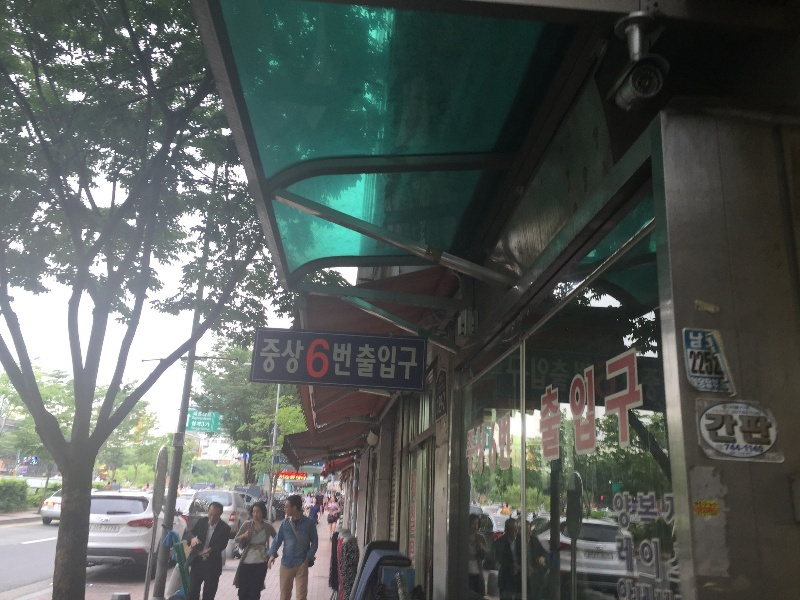text: (545, 349, 560, 460), (561, 349, 576, 460), (577, 349, 592, 460), (593, 349, 608, 460), (609, 349, 624, 460), (625, 349, 640, 460), (481, 413, 496, 478), (497, 413, 511, 478), (467, 413, 480, 478), (513, 353, 528, 404), (529, 353, 544, 404), (545, 353, 560, 404), (561, 353, 576, 404), (577, 353, 592, 404), (593, 353, 608, 404), (273, 335, 288, 382), (289, 335, 304, 382), (305, 335, 320, 382), (321, 335, 336, 382), (337, 335, 352, 382), (353, 335, 368, 382), (369, 335, 384, 382), (385, 335, 400, 382), (401, 335, 416, 382), (625, 536, 640, 582), (641, 536, 656, 582), (410, 471, 416, 568), (625, 492, 640, 530), (641, 492, 656, 530), (641, 366, 656, 403), (539, 349, 544, 460), (705, 412, 720, 446), (721, 412, 736, 446), (737, 412, 752, 446), (753, 412, 768, 446), (262, 335, 272, 382), (612, 492, 624, 530), (615, 536, 624, 582), (609, 353, 617, 404), (689, 351, 704, 376), (705, 351, 720, 376), (625, 575, 640, 599), (641, 575, 656, 599), (657, 575, 672, 599), (436, 390, 448, 417), (673, 538, 680, 582), (689, 332, 704, 350), (507, 353, 512, 404), (641, 349, 643, 460), (705, 501, 719, 516), (690, 376, 704, 390), (705, 376, 719, 390), (673, 575, 681, 599), (657, 366, 662, 403), (657, 536, 661, 582), (665, 497, 672, 523), (668, 538, 672, 582), (617, 575, 624, 599), (737, 443, 752, 454), (593, 550, 608, 561), (711, 337, 720, 355), (769, 452, 783, 463), (437, 380, 448, 394), (694, 501, 704, 516), (723, 443, 736, 454), (417, 335, 420, 382), (769, 412, 773, 446), (438, 373, 448, 386), (753, 443, 764, 454), (193, 420, 208, 428), (657, 492, 660, 530), (134, 420, 144, 431), (721, 409, 736, 416), (737, 409, 752, 416), (353, 480, 368, 487), (721, 378, 728, 392), (274, 472, 288, 479), (2, 464, 16, 471), (289, 475, 304, 481), (193, 411, 208, 417), (584, 550, 592, 561), (200, 447, 208, 458), (722, 404, 736, 410), (737, 404, 751, 410), (247, 452, 256, 461), (761, 452, 768, 463), (193, 416, 208, 421), (721, 351, 724, 376), (753, 409, 763, 416), (697, 399, 704, 408), (289, 472, 304, 476), (712, 409, 720, 416), (104, 525, 112, 532), (609, 550, 614, 561), (279, 475, 288, 481), (673, 497, 675, 523), (102, 519, 112, 524), (597, 547, 608, 551), (329, 484, 336, 490), (130, 530, 144, 533), (193, 426, 201, 431), (243, 458, 256, 461), (705, 399, 709, 408), (305, 460, 314, 464), (97, 525, 103, 531), (313, 462, 320, 467), (219, 415, 224, 422), (217, 427, 224, 432), (201, 427, 208, 432), (113, 525, 118, 532), (281, 458, 288, 463), (217, 461, 224, 466), (703, 412, 704, 446), (280, 472, 288, 476), (241, 486, 251, 489), (225, 461, 231, 466), (217, 421, 224, 425), (295, 483, 304, 486), (92, 525, 96, 531), (58, 505, 64, 508), (209, 411, 212, 417), (337, 483, 340, 488), (209, 416, 212, 421), (719, 378, 720, 392), (305, 472, 308, 476), (305, 475, 307, 481), (334, 483, 336, 488), (237, 486, 240, 489), (225, 429, 229, 431), (209, 420, 210, 428), (17, 464, 18, 471), (191, 426, 192, 431), (209, 427, 210, 432), (305, 483, 306, 486)
